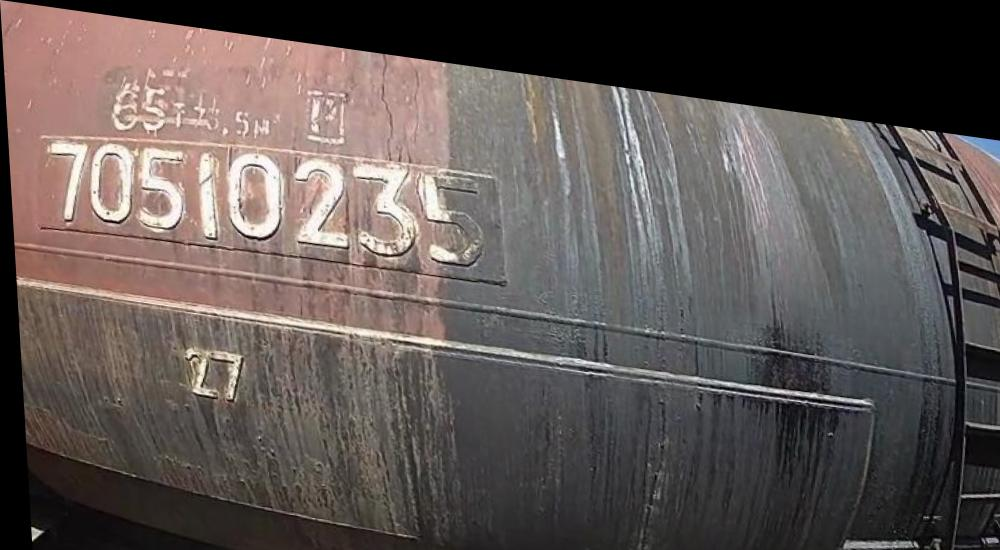Wagon-number: (39, 113, 489, 274)
